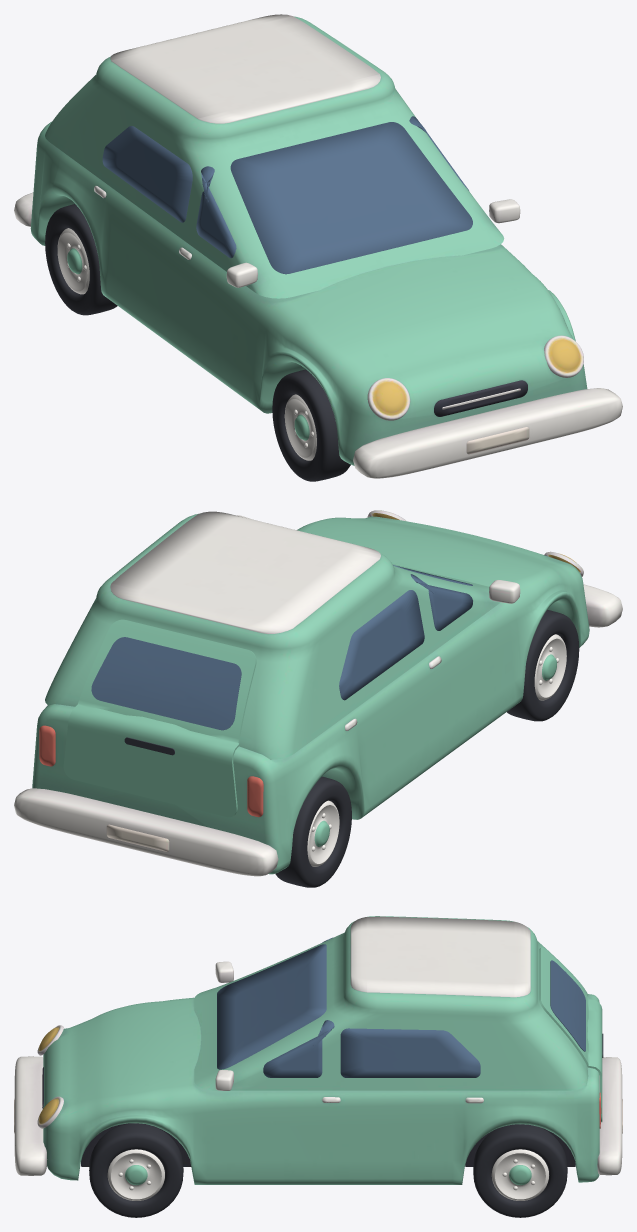
Rendered from hatch.glb.
3 views of the same model, one above another, from view 1: azimuth 30°, elevation 25°; view 2: azimuth 150°, elevation 25°; view 3: azimuth 270°, elevation 25° (orthographic). The views are drawn at different scales.
Visible parts, largest first — view 1: hatchback_body, hatchback_windows, hatchback_wheel_fr, hatchback_wheel_rr; view 2: hatchback_body, hatchback_tailgate, hatchback_windows, hatchback_wheel_rr, hatchback_wheel_fr; view 3: hatchback_body, hatchback_windows, hatchback_wheel_fl, hatchback_wheel_rl, hatchback_tailgate.
Boxes of the visible parts, left/top/right/bottom form: hatchback_body: left=14, top=14, right=622, bottom=478; hatchback_windows: left=102, top=116, right=472, bottom=274; hatchback_wheel_fr: left=272, top=369, right=350, bottom=481; hatchback_wheel_rr: left=45, top=204, right=117, bottom=315; hatchback_body: left=14, top=510, right=622, bottom=876; hatchback_tailgate: left=63, top=619, right=256, bottom=817; hatchback_windows: left=339, top=565, right=472, bottom=700; hatchback_wheel_rr: left=275, top=776, right=351, bottom=887; hatchback_wheel_fr: left=507, top=610, right=579, bottom=721; hatchback_body: left=14, top=916, right=622, bottom=1184; hatchback_windows: left=217, top=937, right=480, bottom=1077; hatchback_wheel_fl: left=89, top=1123, right=183, bottom=1217; hatchback_wheel_rl: left=473, top=1124, right=567, bottom=1217; hatchback_tailgate: left=539, top=947, right=603, bottom=1122.
Bounding box in the file's own units: 1.85 × 1.54 × 4.
17 materials, 1 textured.
